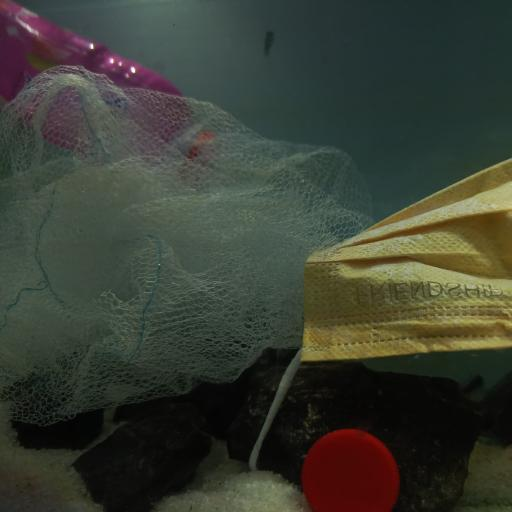bottle_cap: (300, 424, 404, 511)
mask: (297, 153, 512, 365)
net: (5, 68, 364, 417)
plastic_bottle: (2, 2, 217, 188)
